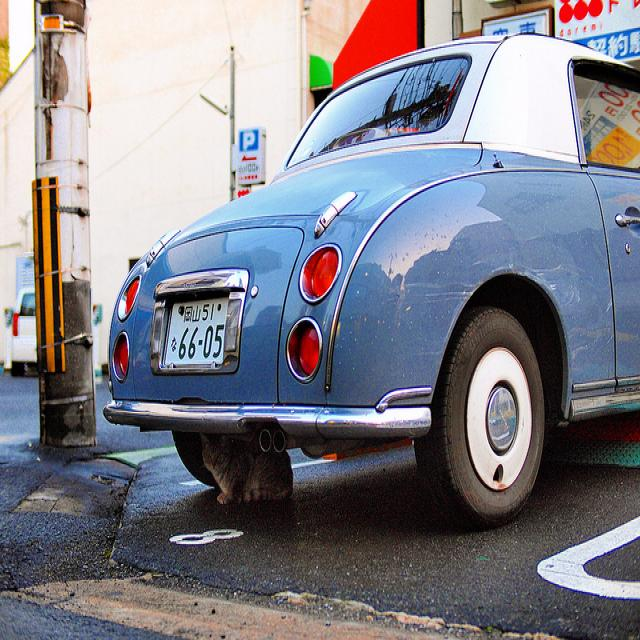Vehicle: (102, 33, 640, 528), (3, 289, 37, 376)
